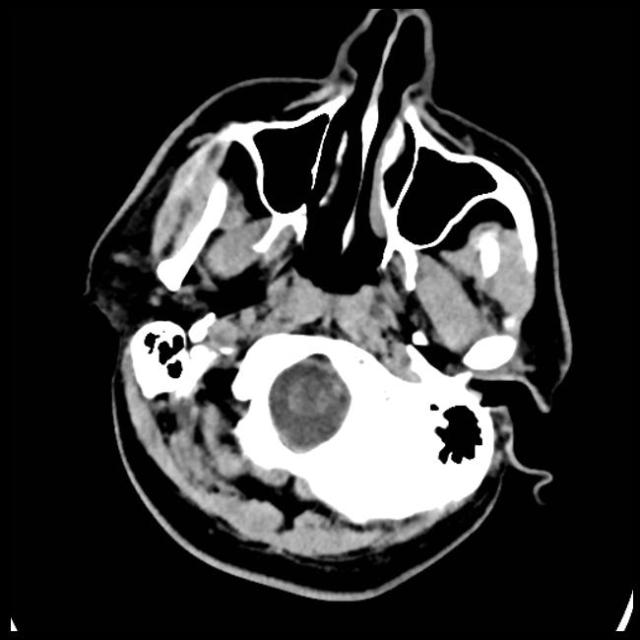lesion: (82, 6, 577, 603)
